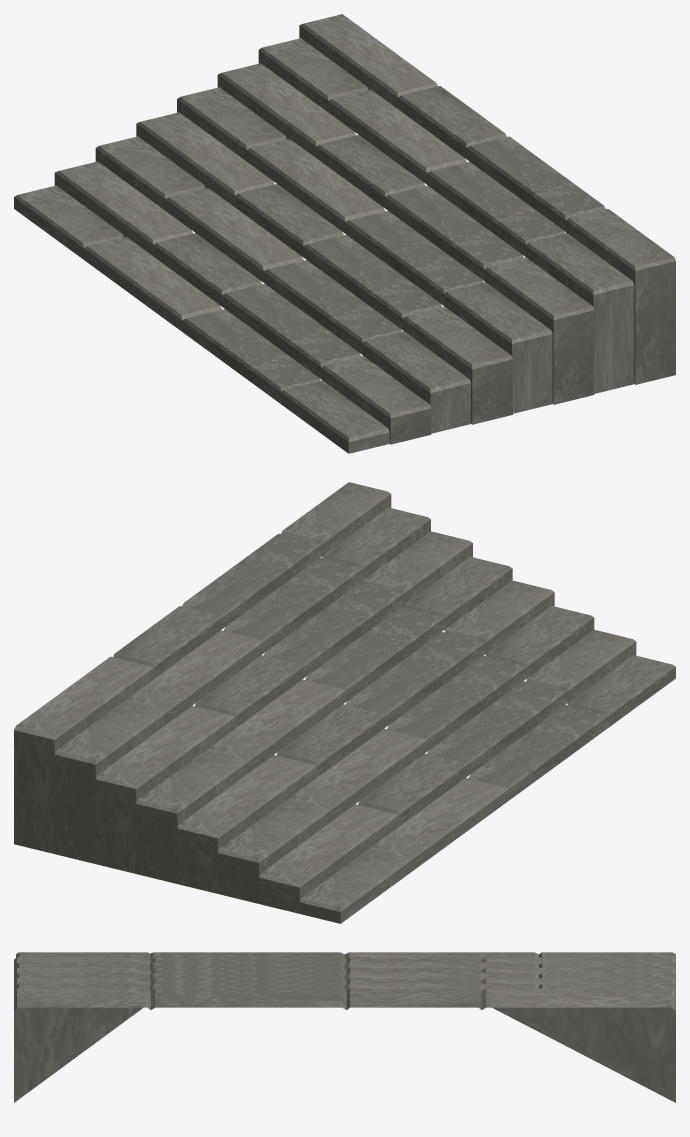
File: SM_stair_throne.fbx
3 views of the same model, one above another, from view 1: azimuth 30°, elevation 25°; view 2: azimuth 150°, elevation 25°; view 3: azimuth 270°, elevation 25° (orthographic).
Parts seen in each view (by area): view 1: SM_stair; view 2: SM_stair; view 3: SM_stair.
Part boxes in pixels (left/top/right/bottom): SM_stair: left=14, top=14, right=675, bottom=453; SM_stair: left=14, top=482, right=675, bottom=923; SM_stair: left=14, top=952, right=675, bottom=1102.
Bounding box in the file's own units: 3.39 × 1.16 × 6.04.
